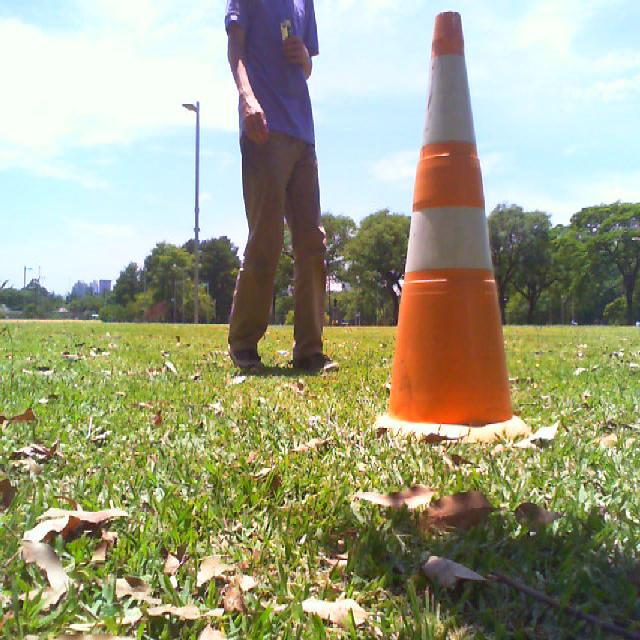cone: (372, 12, 532, 441)
